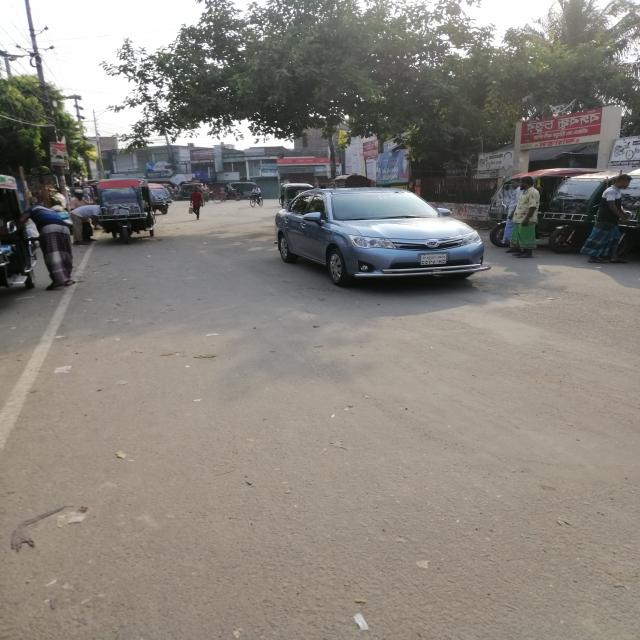Car: (263, 180, 494, 289)
